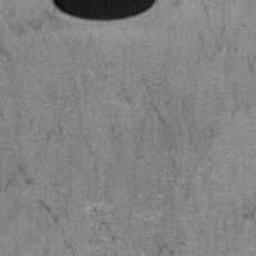Punching: (50, 0, 155, 23)
